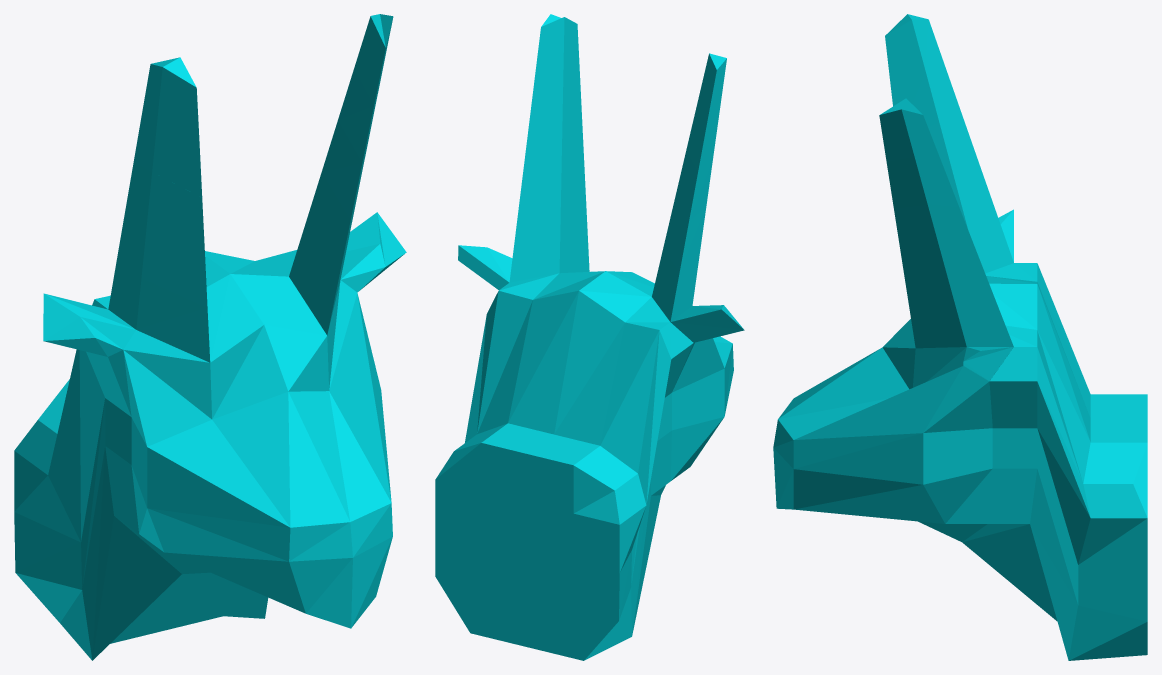
The model's file is ChimeraHead_Stab.fbx.
3 renders of one model, left to right at view 1: azimuth 30°, elevation 25°; view 2: azimuth 150°, elevation 25°; view 3: azimuth 270°, elevation 25°, orthographic. The views are drawn at different scales.
Parts seen in each view (by area): view 1: Chimera_head_4; view 2: Chimera_head_4; view 3: Chimera_head_4.
Part boxes in pixels (x1,y1,x2,y2): Chimera_head_4: [14, 14, 406, 660]; Chimera_head_4: [435, 14, 744, 660]; Chimera_head_4: [773, 14, 1147, 660].
Bounding box in the file's own units: 0.4192 × 0.7414 × 0.4429.
